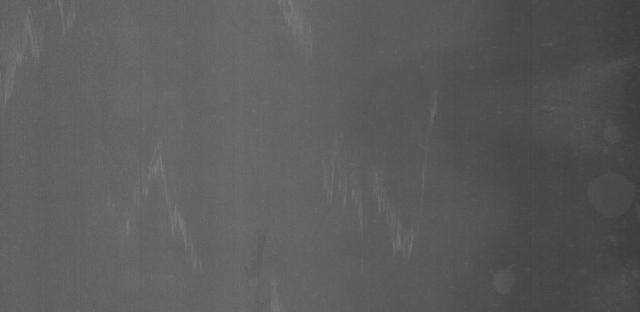oil_spot: (581, 162, 640, 221), (476, 253, 527, 308)
silk_spot: (320, 147, 425, 257), (129, 150, 205, 261), (3, 9, 82, 83), (274, 10, 332, 54)
